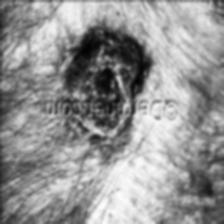Potentially Malignant Skin Tumors: (58, 28, 150, 100)
